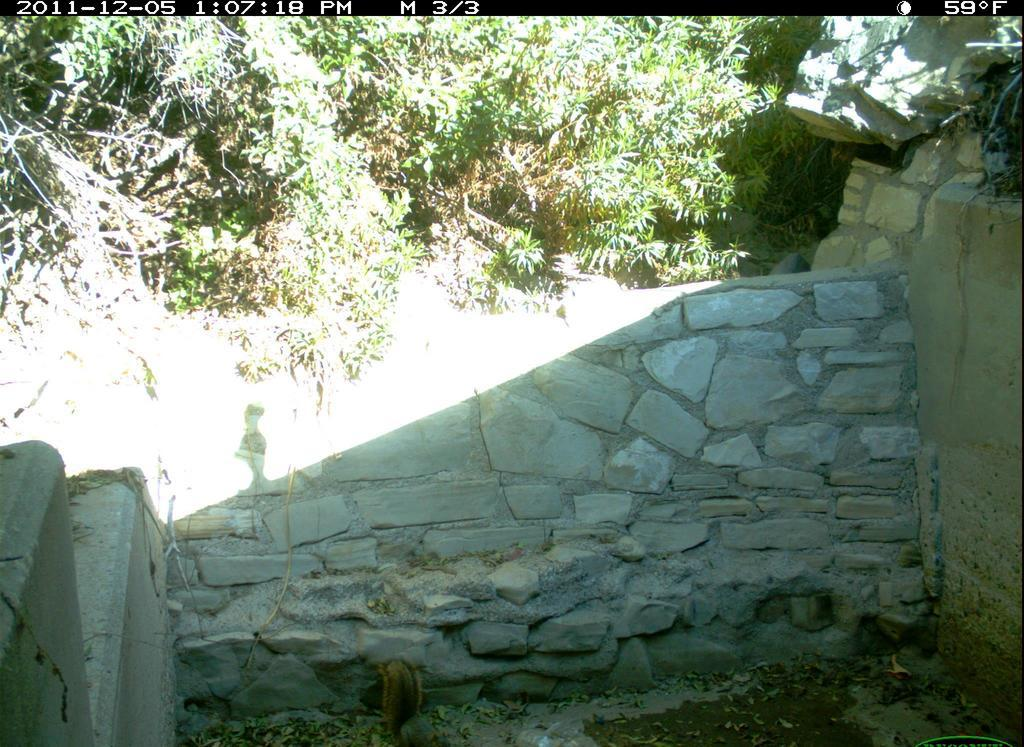squirrel: (370, 652, 460, 744)
